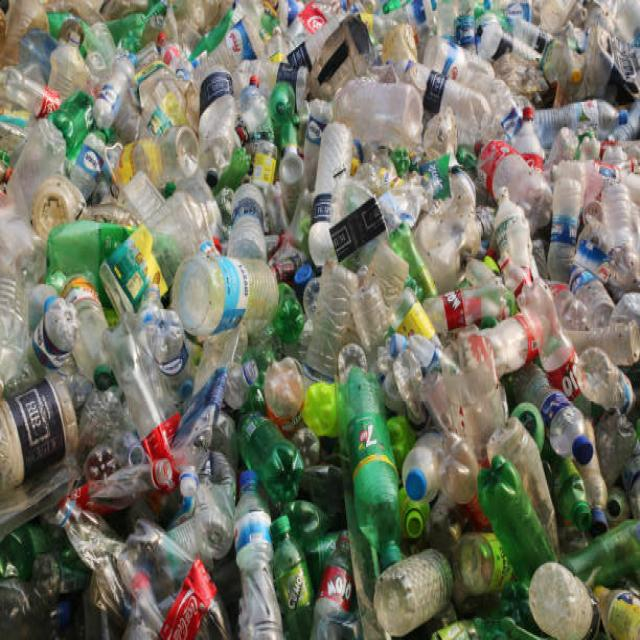plastic: (11, 19, 626, 594)
